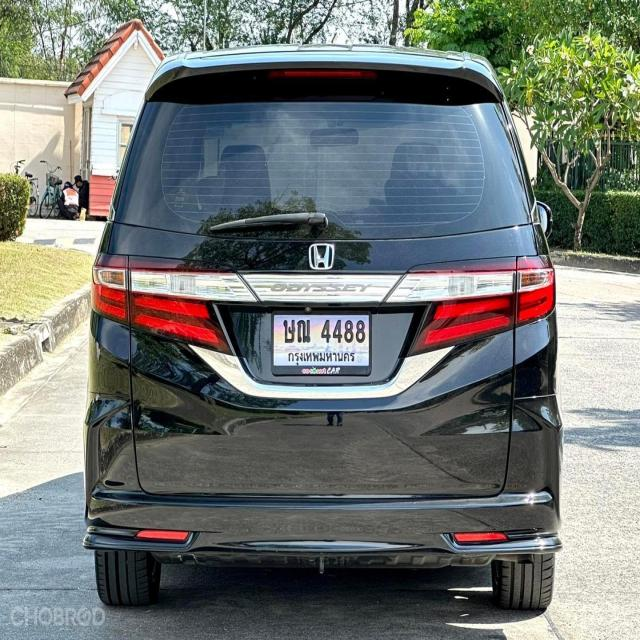license_plate: (270, 312, 372, 378)
